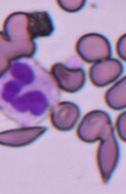N: (0, 58, 59, 124)
